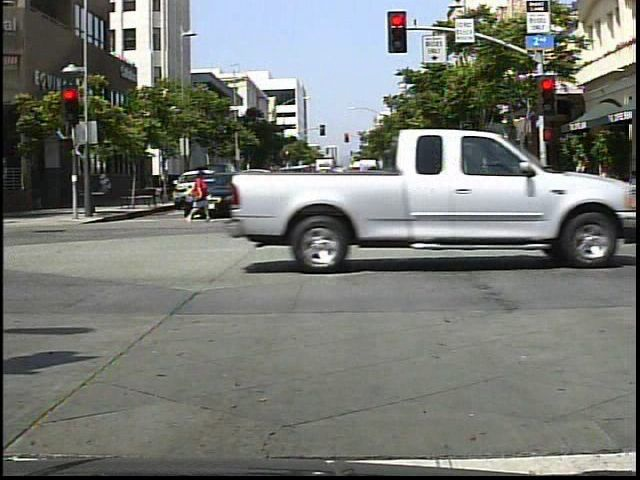person: (364, 163, 399, 231), (414, 161, 445, 225), (180, 166, 213, 225), (571, 157, 593, 206)
